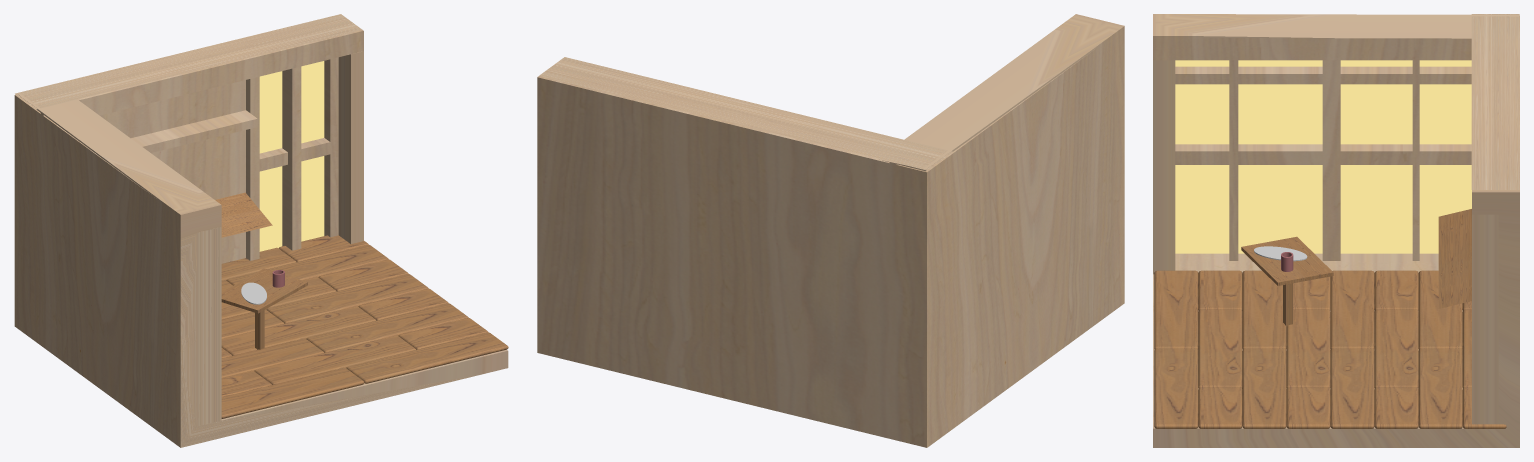
File: artzone.glb
3 renders of one model, left to right at view 1: azimuth 30°, elevation 25°; view 2: azimuth 150°, elevation 25°; view 3: azimuth 270°, elevation 25°, orthographic. The views are drawn at different scales.
Visible parts, largest first — view 1: Cube, Plane.002, Plane.017, Plane.003; view 2: Cube; view 3: Cube, Plane.002, Plane.003, Plane.017, Cylinder.002.
Boxes of the visible parts, x1,y1,x2,y2 form: Cube: (14,14,508,447); Plane.002: (221,235,508,418); Plane.017: (221,268,307,349); Plane.003: (215,192,272,237); Cube: (537,14,1124,447); Cube: (1153,14,1519,447); Plane.002: (1154,270,1506,428); Plane.003: (1438,209,1471,308); Plane.017: (1241,236,1333,326); Cylinder.002: (1254,246,1307,261).
Size of the model in its own units: 2.98 by 2.01 by 2.6.
Materials: 8 (4 with a texture image).
